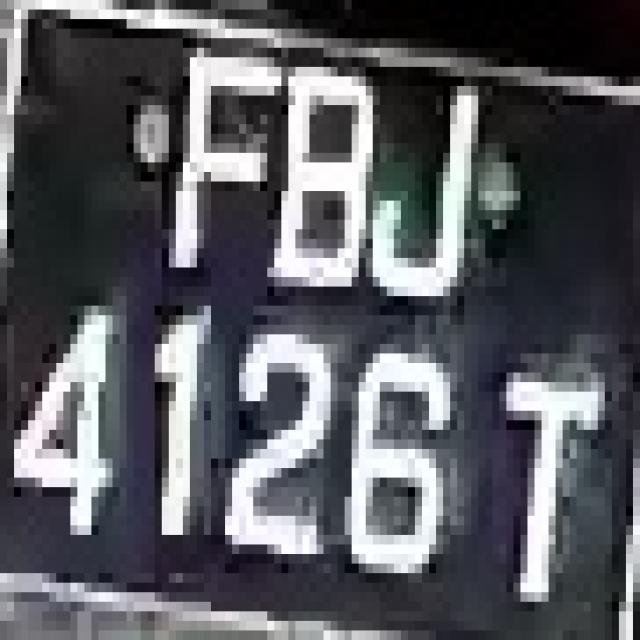1: (134, 296, 218, 564)
2: (211, 286, 338, 582)
4: (28, 258, 127, 554)
6: (331, 315, 457, 592)
B: (267, 38, 387, 296)
F: (148, 19, 281, 287)
J: (366, 48, 492, 315)
T: (499, 325, 605, 611)
